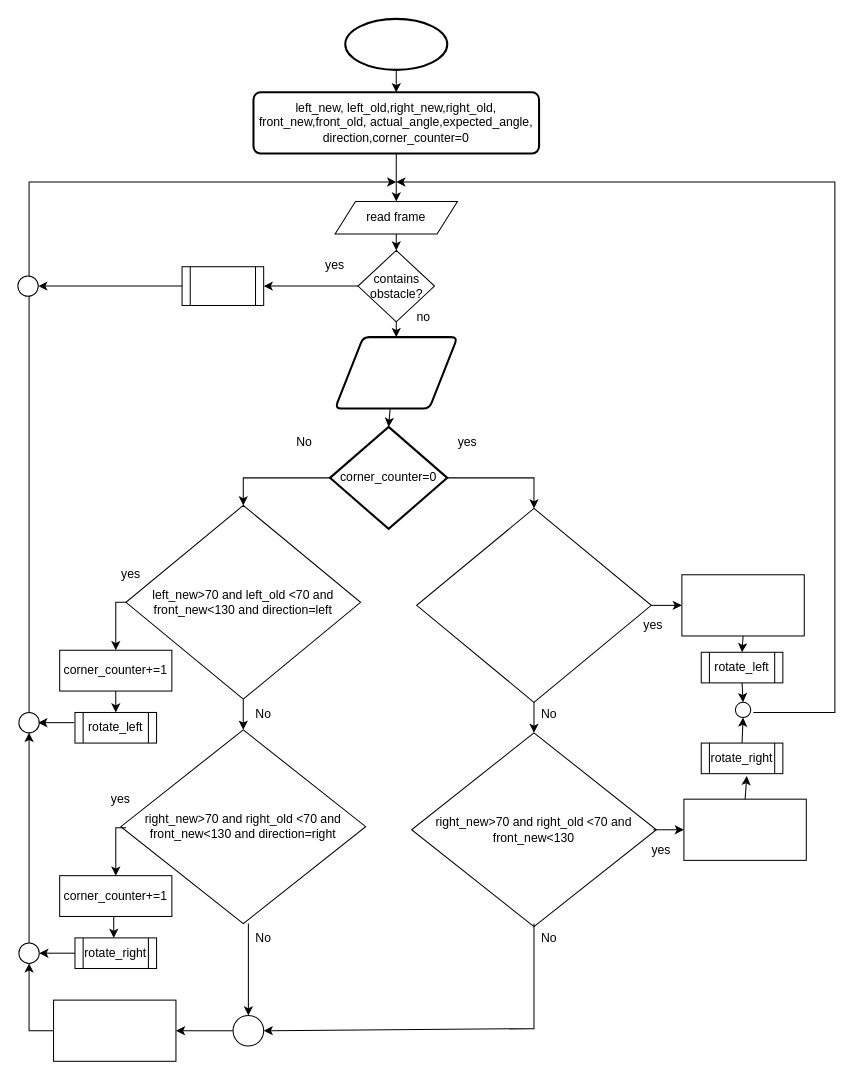
Some shapes in this 861 by 1079 pixel diagram are drawn without their labels. The shapes that lost their labels are listed below. From the top down, each one's centre as x and y in pixels, then its label:
At (396,43): "start".
At (222,285): "Avoid".
At (396,372): "left_new right_new front_new actual_angle".
At (533,604): "left_new>70 and left_old <70 and front_new<130".
At (742,605): "direction=left corner_counter+=1".
At (744,829): "direction=right corner_counter+=1".
At (114,1030): "right_old=right_new left_old=left_new front_old=front_new".
